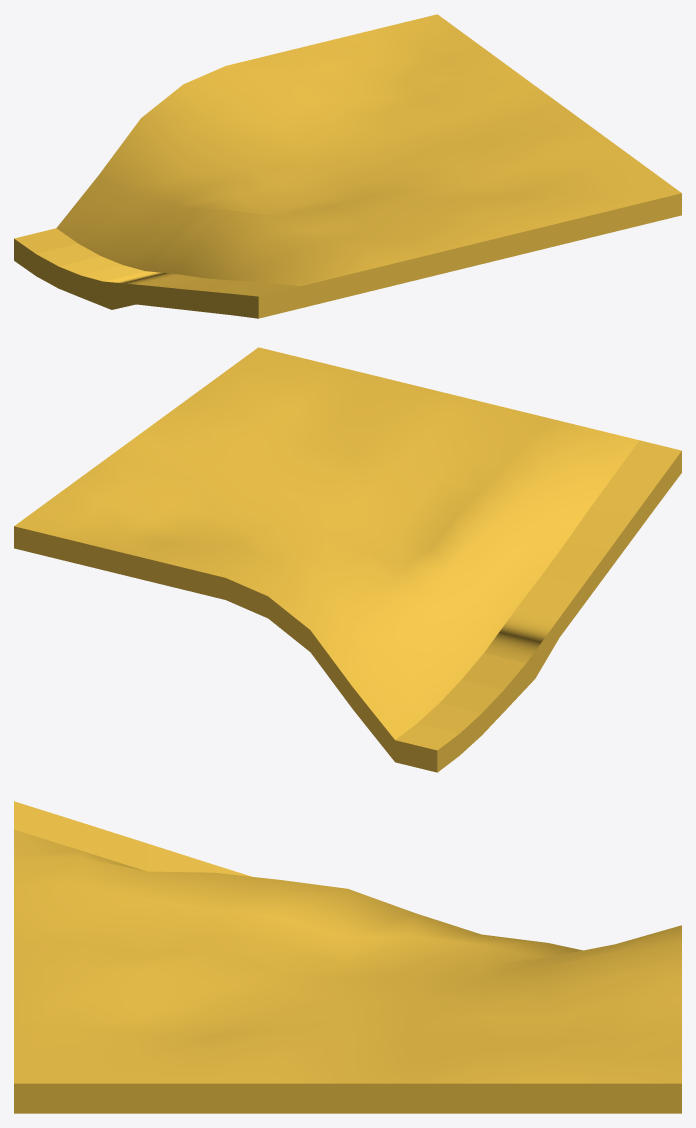
File: Flach_-_Unten_-_Ecke_Invertiert_b_-_x.fbx
3 renders of one model, top to bottom at view 1: azimuth 30°, elevation 25°; view 2: azimuth 150°, elevation 25°; view 3: azimuth 270°, elevation 25°, orthographic. The views are drawn at different scales.
Visible parts, largest first — view 1: Flach - Unten - Ecke Invertiert b - x; view 2: Flach - Unten - Ecke Invertiert b - x; view 3: Flach - Unten - Ecke Invertiert b - x.
Part boxes in pixels (bbox=[...]): Flach - Unten - Ecke Invertiert b - x: bbox=[14, 14, 681, 318]; Flach - Unten - Ecke Invertiert b - x: bbox=[14, 347, 681, 772]; Flach - Unten - Ecke Invertiert b - x: bbox=[14, 801, 681, 1113].
Size of the model in its own units: 394 by 127 by 394.
